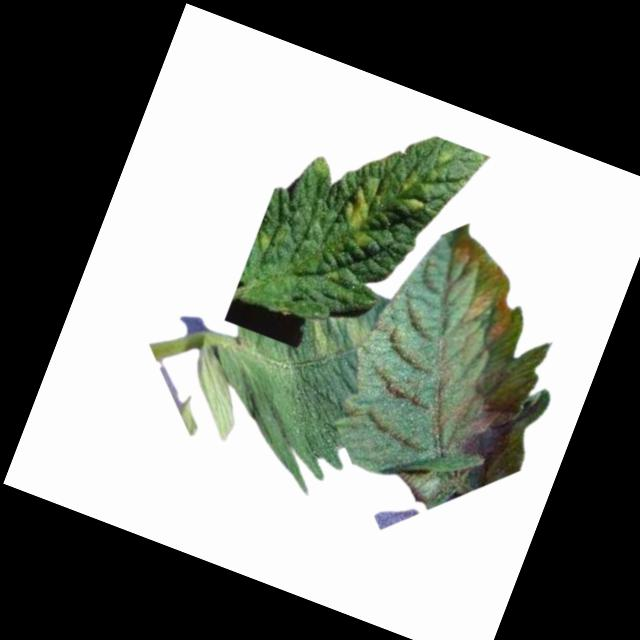Leaf_Mold: (423, 227, 541, 355), (330, 174, 394, 254), (303, 303, 376, 371), (388, 161, 439, 220)
